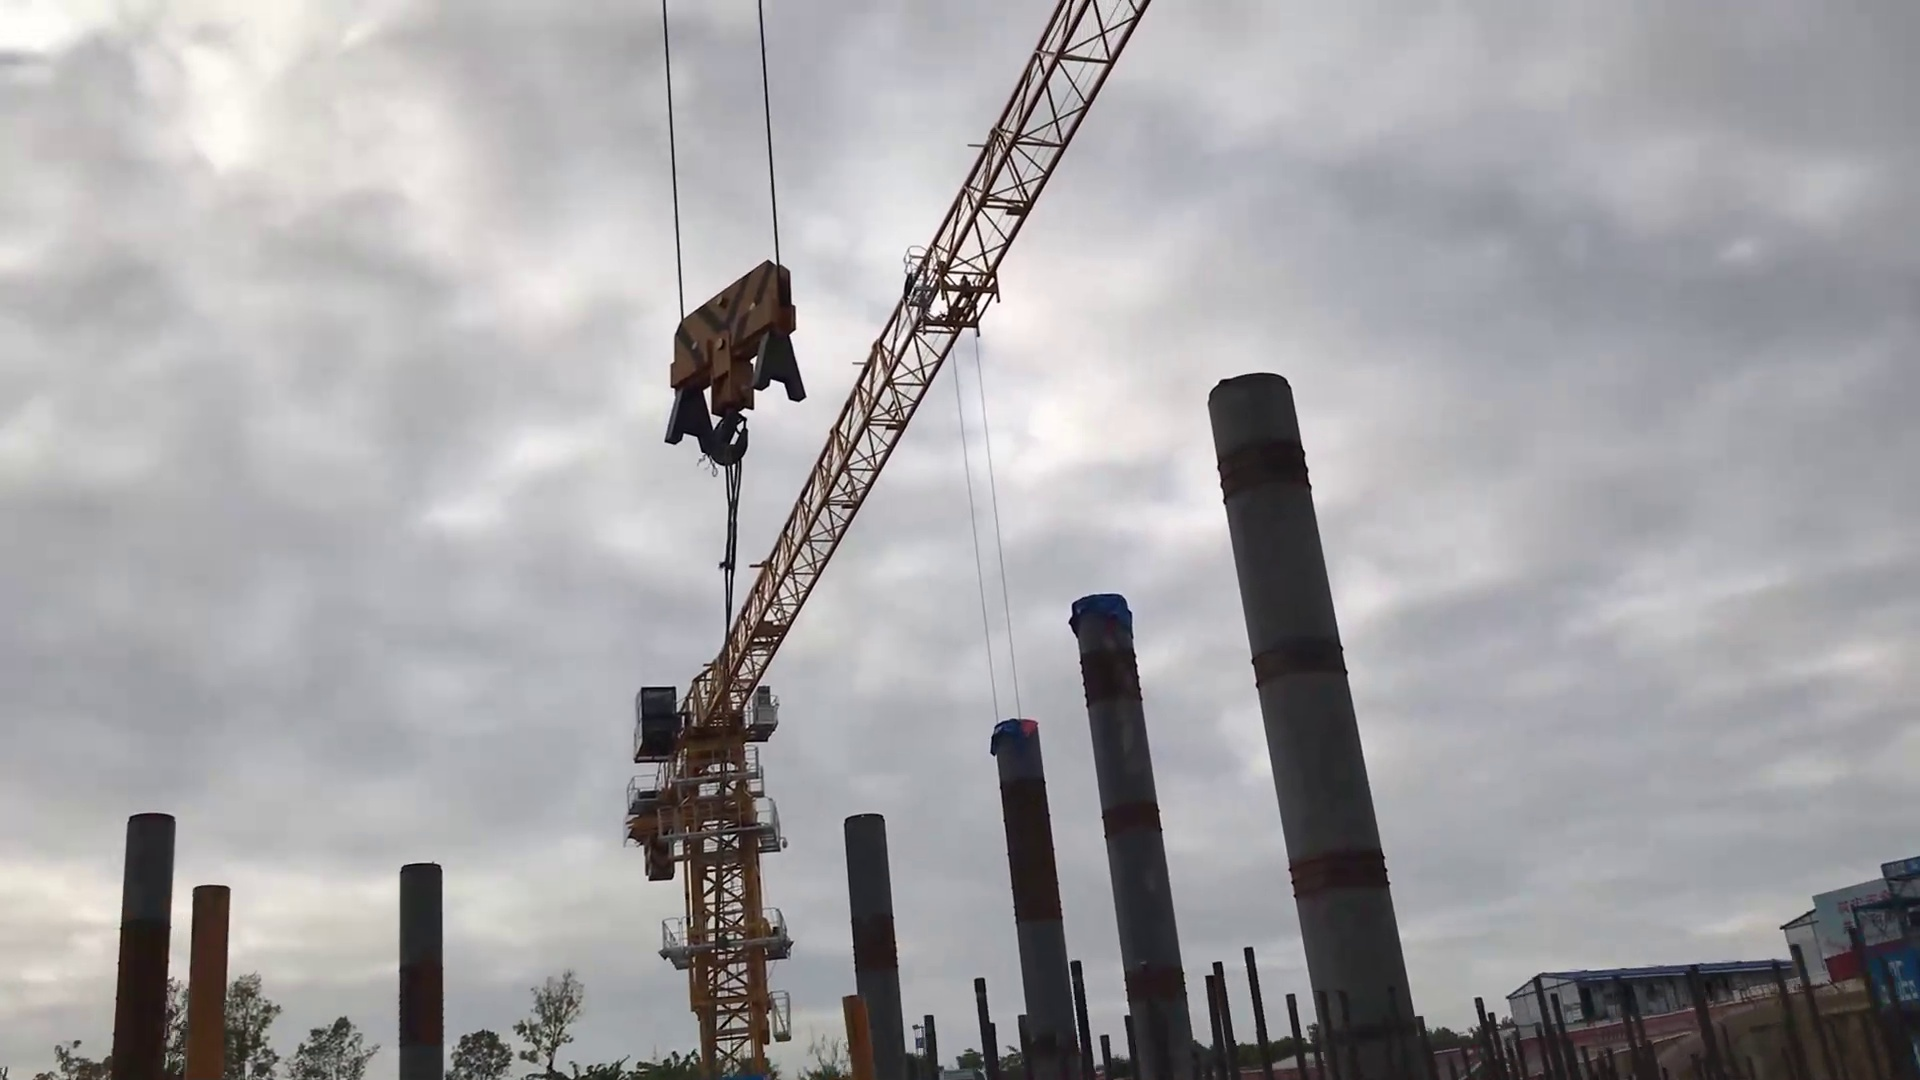hook: (659, 255, 811, 473)
